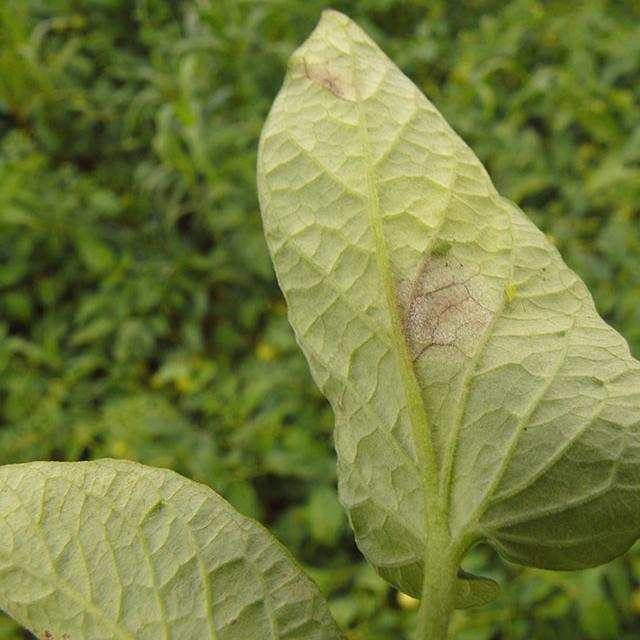Tomato leaf late blight: (245, 0, 640, 619)
